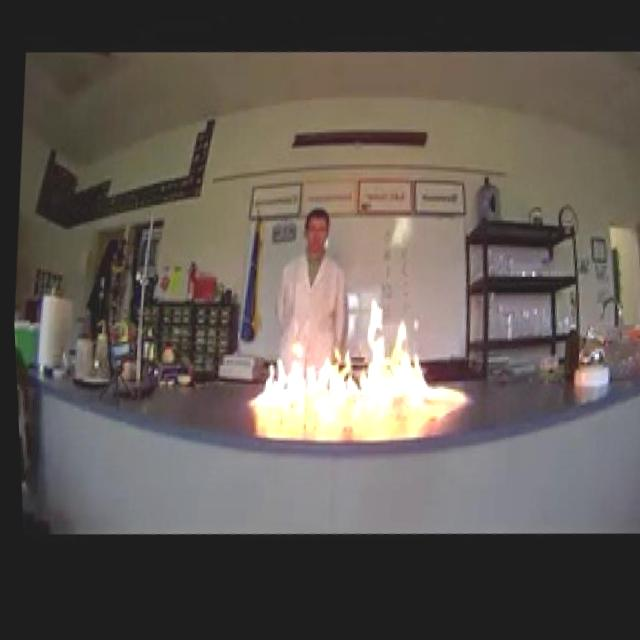Smoke: (234, 283, 476, 433)
